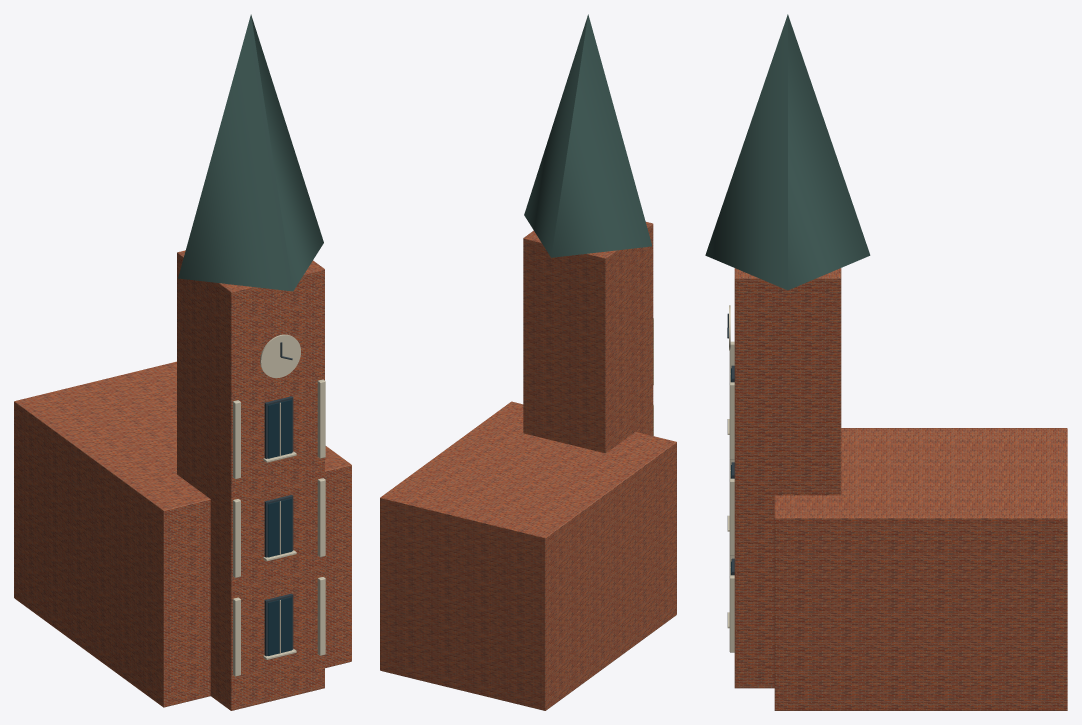
Rendered from nazareth-church.glb.
The picture shows the model from 3 angles, left to right: view 1: azimuth 30°, elevation 25°; view 2: azimuth 150°, elevation 25°; view 3: azimuth 270°, elevation 25°; orthographic projection. The views are drawn at different scales.
Visible parts, largest first — view 1: DC_Mesh_DC_Brick, DC_Mesh_DC_Roof, DC_Mesh_DC_Ivory, DC_Mesh_DC_BlueGlass, DC_Mesh_DC_Steel; view 2: DC_Mesh_DC_Brick, DC_Mesh_DC_Roof; view 3: DC_Mesh_DC_Brick, DC_Mesh_DC_Roof, DC_Mesh_DC_Ivory.
Boxes of the visible parts, <box> form: DC_Mesh_DC_Brick: <box>14,250,351,710</box>; DC_Mesh_DC_Roof: <box>178,14,323,291</box>; DC_Mesh_DC_Ivory: <box>233,334,325,676</box>; DC_Mesh_DC_BlueGlass: <box>268,399,291,655</box>; DC_Mesh_DC_Steel: <box>264,342,293,656</box>; DC_Mesh_DC_Brick: <box>380,222,676,710</box>; DC_Mesh_DC_Roof: <box>524,14,652,257</box>; DC_Mesh_DC_Brick: <box>734,268,1067,710</box>; DC_Mesh_DC_Roof: <box>705,14,870,290</box>; DC_Mesh_DC_Ivory: <box>727,305,734,652</box>.
Bounding box in the file's own units: 8 × 27 × 13.6.
5 materials, 1 textured.
